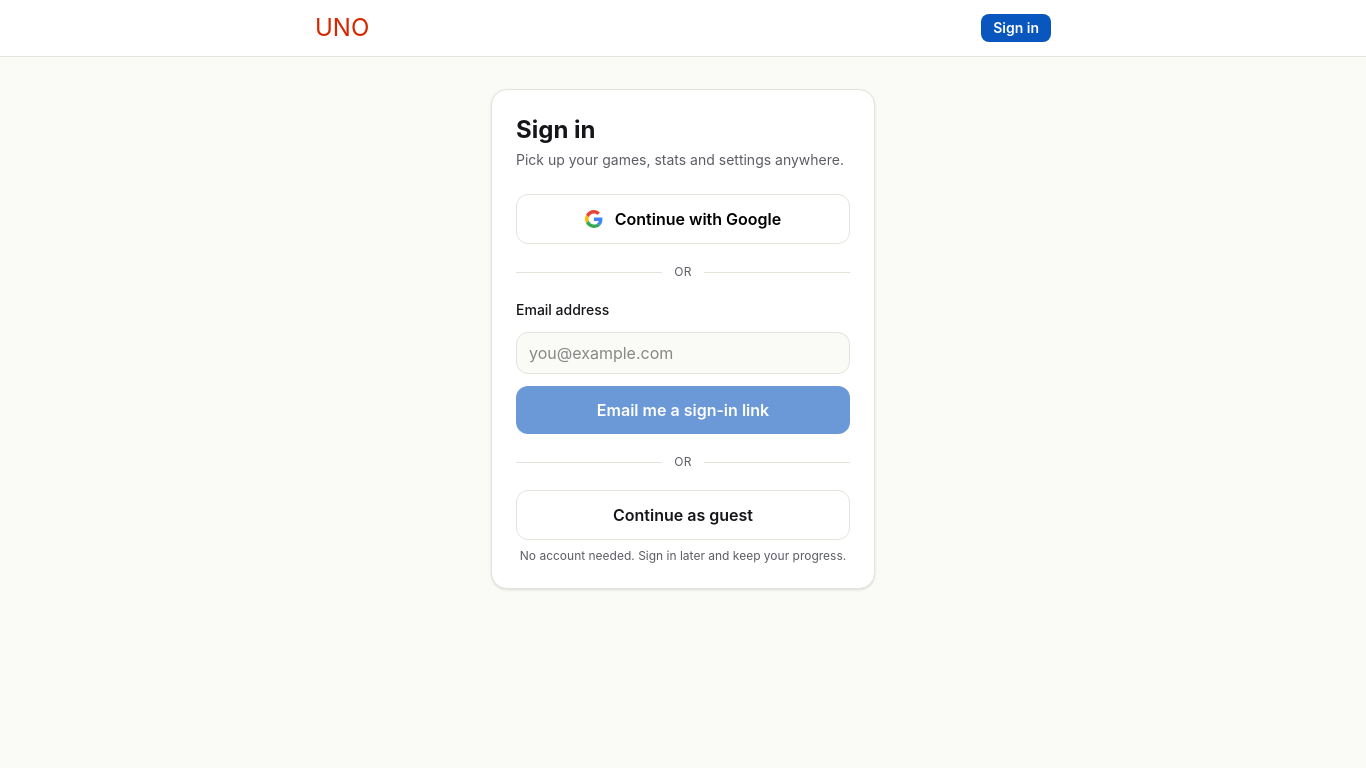
sign-in page › emails a magic link and confirms
Type " ada@example.com " into the field labelled "Email address" at (683, 353), box [516,332,850,374]
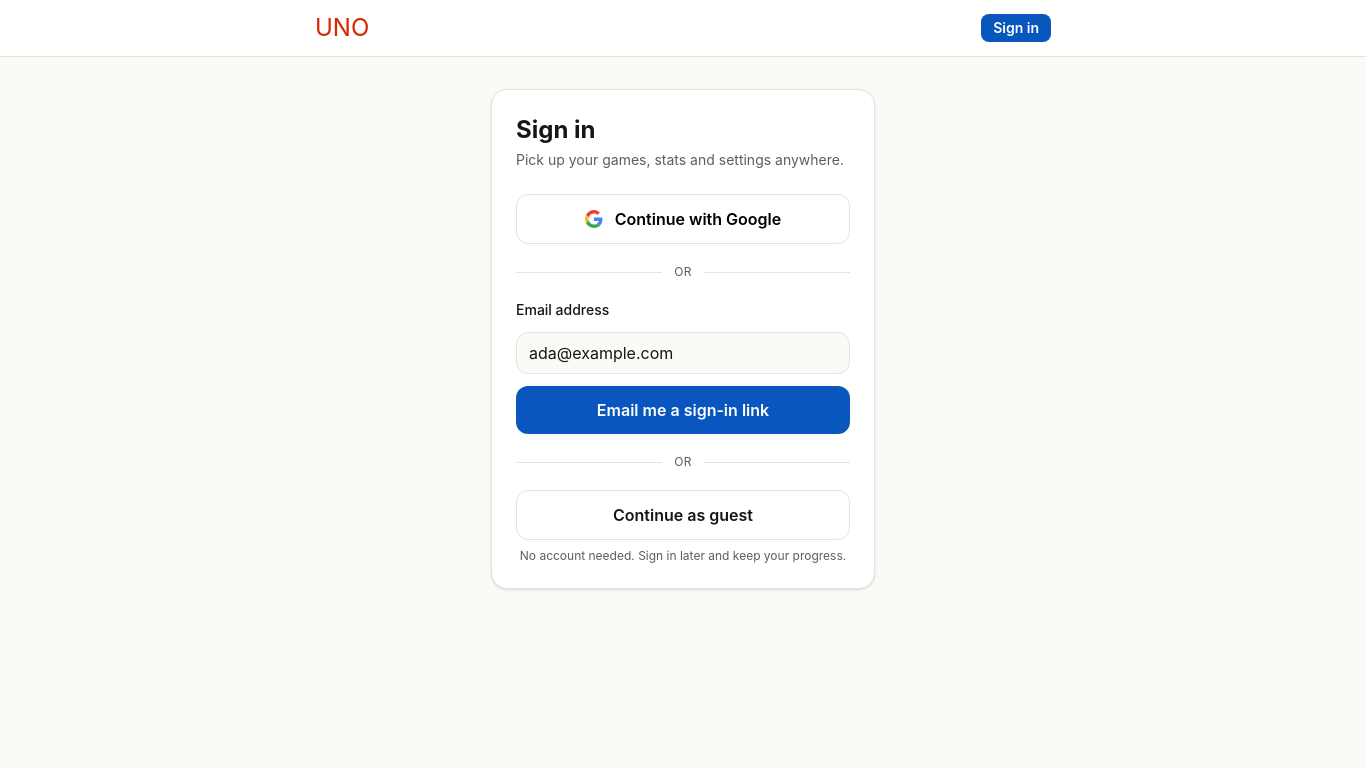
Click the button "Email me a sign-in link" at (683, 410), box [516,386,850,434]
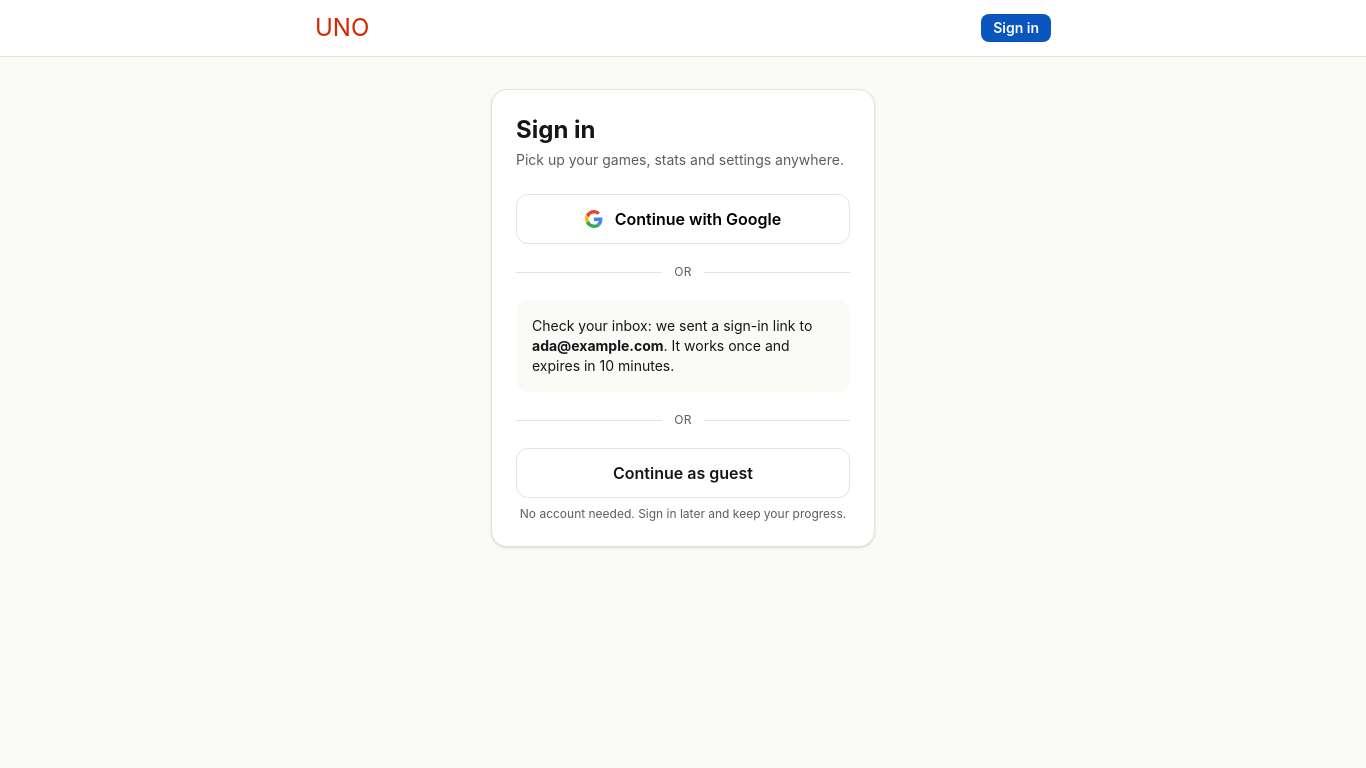
Now the message shows "ada@example.com", box [532,337,664,354]
